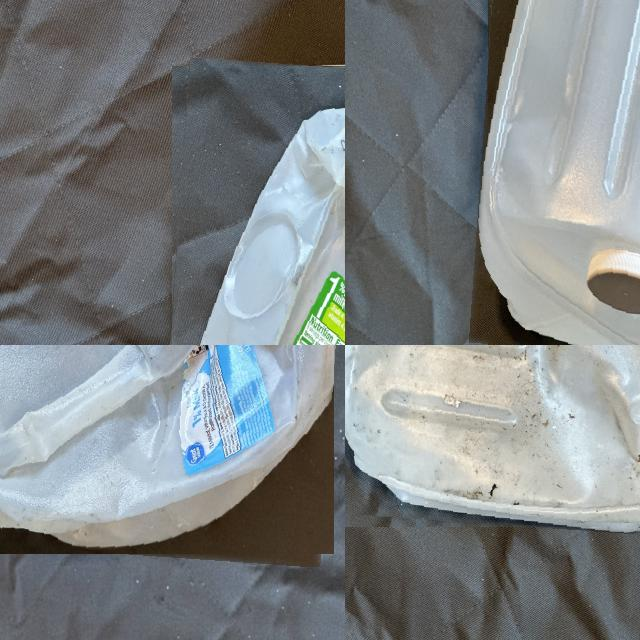milk-jug: (0, 345, 340, 560), (478, 0, 640, 345), (345, 345, 640, 533), (162, 60, 345, 345)
